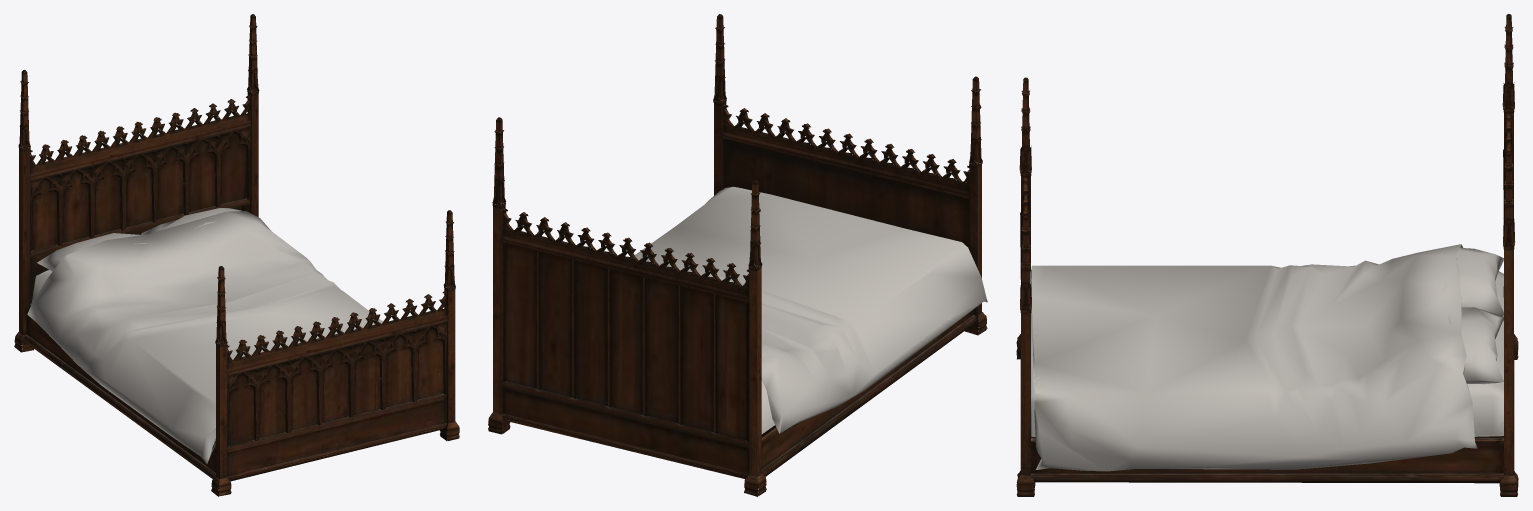
Rendered from GothicBed_01.glb.
3 renders of one model, left to right at view 1: azimuth 30°, elevation 25°; view 2: azimuth 150°, elevation 25°; view 3: azimuth 270°, elevation 25°, orthographic. The views are drawn at different scales.
Parts seen in each view (by area): view 1: GothicBed_01; view 2: GothicBed_01; view 3: GothicBed_01.
Boxes of the visible parts, x1,y1,x2,y2 form: GothicBed_01: (14,14,459,496); GothicBed_01: (488,14,987,496); GothicBed_01: (1016,14,1518,496).
Size of the model in its own units: 1.49 by 1.53 by 2.04.
1 material, 1 textured.
